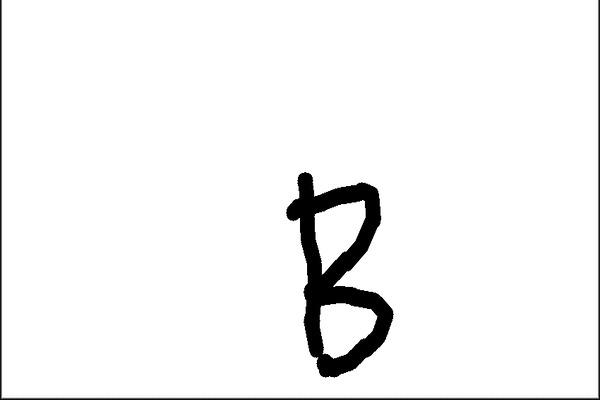B: (275, 163, 409, 386)
